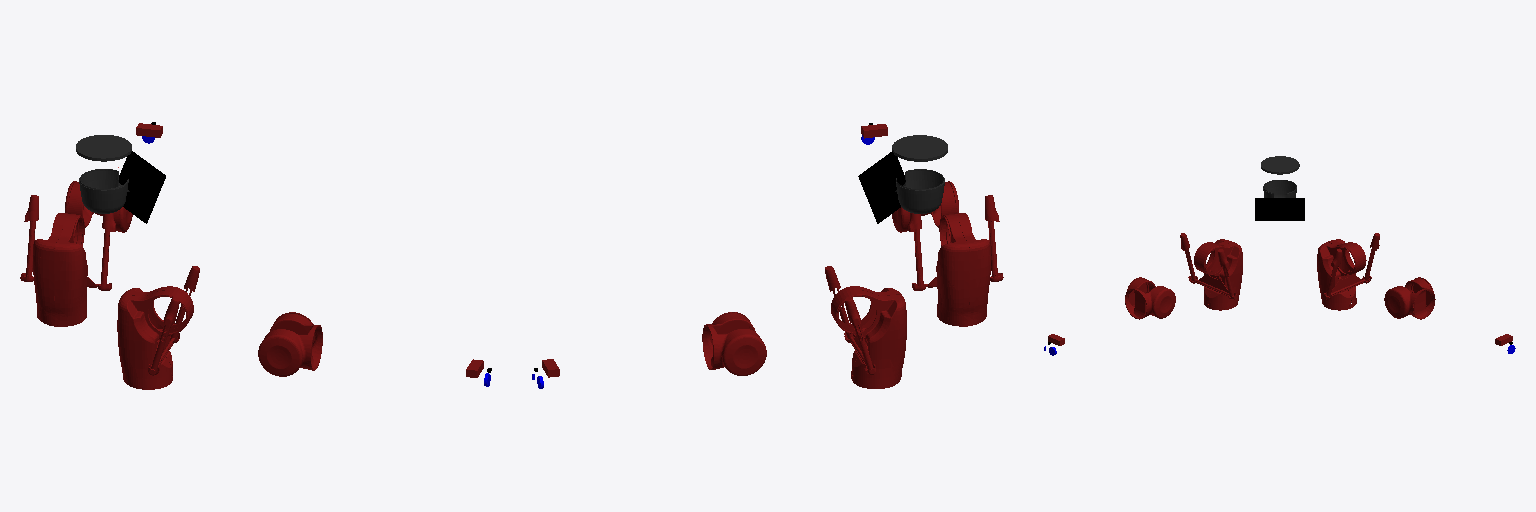
--- Facts derived from the render (not from the file) ---
3 views of the same robot in one strip: view 1: azimuth 30°, elevation 25°; view 2: azimuth 150°, elevation 25°; view 3: azimuth 270°, elevation 25° (orthographic).
Robot: baxter — 49 links, 48 joints (15 revolute, 33 fixed); root link base; default pose: every joint at zero.
Visible links, largest first — view 1: left_upper_shoulder, right_upper_shoulder, right_lower_elbow, display, head, sonar_ring, left_lower_elbow; view 2: right_upper_shoulder, left_upper_shoulder, left_lower_elbow, display, head, sonar_ring, right_lower_elbow; view 3: right_upper_shoulder, left_upper_shoulder, right_lower_elbow, left_lower_elbow, display, sonar_ring, head.
Boxes of the visible links, x1,y1,x2,y2 form: left_upper_shoulder: (20,195,115,326); right_upper_shoulder: (117,266,199,389); right_lower_elbow: (258,312,322,376); display: (119,151,165,223); head: (79,169,129,213); sonar_ring: (76,135,131,161); left_lower_elbow: (65,181,132,232); right_upper_shoulder: (908,195,1003,326); left_upper_shoulder: (825,266,906,388); left_lower_elbow: (702,312,766,375); display: (858,151,905,223); head: (895,169,944,213); sonar_ring: (892,135,947,161); right_lower_elbow: (892,181,958,232); right_upper_shoulder: (1180,233,1242,310); left_upper_shoulder: (1317,233,1379,310); right_lower_elbow: (1125,277,1175,319); left_lower_elbow: (1384,277,1435,319); display: (1255,198,1304,220); sonar_ring: (1261,156,1299,174); head: (1263,180,1296,197).
Size in the robot's own frame: 0.8692 by 2.06 by 0.6706 metres.
5 mesh visuals loaded from 11 distinct referenced files (3 Collada DAE); not drawn: 13 (reference not matched to a file when rendering).

robot.urdf — baxter:
<?xml version="1.0" ?>
<!-- ============================================================================================== -->
<!-- |                                                                                            | -->
<!-- |    baxter.urdf is DEPRECATED. It is included here for backward compatibility.              | -->
<!-- |    Please use baxter.urdf.xacro by running:                                                | -->
<!-- |$ rosrun xacro xacro.py - -inorder `rospack find baxter_description`/urdf/baxter.urdf.xacro | -->
<!-- |                                                                                            | -->
<!-- ============================================================================================== -->
<robot name="baxter">
  <link name="base">
  </link>
  <link name="torso">
    <visual>
      <origin rpy="0 0 0" xyz="0 0 0"/>
      <geometry>
        <mesh filename="package://baxter_description/meshes/torso/base_link.DAE"/>
      </geometry>
    </visual>
    <inertial>
      <origin rpy="0 0 0" xyz="0.000000 0.000000 0.000000"/>
      <mass value="35.336455"/>
      <inertia ixx="1.849155" ixy="-0.000354" ixz="-0.154188" iyy="1.662671" iyz="0.003292" izz="0.802239"/>
    </inertial>
  </link>
  <link name="left_torso_itb">
    <inertial>
      <origin rpy="0 0 0" xyz="0.000000 0.000000 0.000000"/>
      <mass value="0.0001"/>
      <inertia ixx="1e-08" ixy="0" ixz="0" iyy="1e-08" iyz="0" izz="1e-08"/>
    </inertial>
  </link>
  <link name="right_torso_itb">
    <inertial>
      <origin rpy="0 0 0" xyz="0.000000 0.000000 0.000000"/>
      <mass value="0.0001"/>
      <inertia ixx="1e-08" ixy="0" ixz="0" iyy="1e-08" iyz="0" izz="1e-08"/>
    </inertial>
  </link>
  <link name="pedestal">
    <visual>
      <origin rpy="0 0 0" xyz="0 0 0"/>
      <geometry>
        <mesh filename="package://baxter_description/meshes/base/PEDESTAL.DAE"/>
      </geometry>
      <material name="darkgray">
        <color rgba=".2 .2 .2 1"/>
      </material>
    </visual>
    <inertial>
      <origin rpy="0 0 0" xyz="0 0 0"/>
      <mass value="60.86397744"/>
      <inertia ixx="5.0635929" ixy="0.00103417" ixz="0.80199628" iyy="6.08689388" iyz="0.00105311" izz="4.96191932"/>
    </inertial>
  </link>
  <link name="head">
    <visual>
      <origin rpy="0 0 0" xyz="0 0 .00953"/>
      <geometry>
        <mesh filename="package://baxter_description/meshes/head/H0.DAE"/>
      </geometry>
      <material name="darkgray">
        <color rgba=".2 .2 .2 1"/>
      </material>
    </visual>
    <collision>
      <origin rpy="0 0 0" xyz="0.0 0 0.0"/>
      <geometry>
        <sphere radius="0.001"/>
      </geometry>
    </collision>
    <inertial>
      <origin rpy="0 0 0" xyz="0 0 0"/>
      <mass value="0.547767"/>
      <inertia ixx="0.004641" ixy="0.000159" ixz="0.000242" iyy="0.003295" iyz="-0.001324" izz="0.003415"/>
    </inertial>
  </link>
  <link name="sonar_ring">
    <visual>
      <origin rpy="0 0 0" xyz="-.0347 0 .00953"/>
      <geometry>
        <cylinder length="0.01" radius="0.085"/>
      </geometry>
      <material name="darkgray">
        <color rgba=".2 .2 .2 1"/>
      </material>
    </visual>
    <collision>
      <origin rpy="0 0 0" xyz="0.0 0 0.0"/>
      <geometry>
        <sphere radius="0.001"/>
      </geometry>
    </collision>
    <inertial>
      <origin rpy="0 0 0" xyz="0 0 0"/>
      <mass value="0.0001"/>
      <inertia ixx="1e-08" ixy="0" ixz="0" iyy="1e-08" iyz="0" izz="1e-08"/>
    </inertial>
  </link>
  <link name="screen">
    <visual>
      <origin rpy="0 -1.57079632679 0" xyz="0 -.00953 -.0347"/>
      <geometry>
        <mesh filename="package://baxter_description/meshes/head/H1.DAE"/>
      </geometry>
      <material name="darkred">
        <color rgba=".5 .1 .1 1"/>
      </material>
    </visual>
    <collision>
      <origin rpy="0 0 0" xyz="0.0 0 0.0"/>
      <geometry>
        <sphere radius="0.001"/>
      </geometry>
    </collision>
    <inertial>
      <origin rpy="0 0 0" xyz="0 0 0"/>
      <mass value="0.440171"/>
      <inertia ixx="0.004006" ixy="0.000230" ixz="0.000002" iyy="0.002800" iyz="0.000029" izz="0.001509"/>
    </inertial>
  </link>
  <link name="display">
    <visual>
      <origin rpy="0.2617993877991494 0 0" xyz="0 0 0"/>
      <geometry>
        <box size="0.218 0.16 0.001"/>
      </geometry>
      <material name="black">
        <color rgba="0 0 0 1"/>
      </material>
    </visual>
    <inertial>
      <origin rpy="0 0 0" xyz="0 0 0"/>
      <mass value="0.0001"/>
      <inertia ixx="1e-08" ixy="0" ixz="0" iyy="1e-08" iyz="0" izz="1e-08"/>
    </inertial>
  </link>
  <link name="head_camera">
    <inertial>
      <origin rpy="0 0 0" xyz="0 0 0"/>
      <mass value="0.0001"/>
      <inertia ixx="1e-08" ixy="0" ixz="0" iyy="1e-08" iyz="0" izz="1e-08"/>
    </inertial>
  </link>
  <link name="dummyhead1">
    <inertial>
      <origin rpy="0 0 0" xyz="0 0 0"/>
      <mass value="0.0001"/>
      <inertia ixx="1e-08" ixy="0" ixz="0" iyy="1e-08" iyz="0" izz="1e-08"/>
    </inertial>
  </link>
  <link name="collision_head_link_1">
    <visual>
      <origin rpy="0 0 0" xyz="0 0 0"/>
      <geometry>
        <sphere radius="0.001"/>
      </geometry>
      <material name="red">
        <color rgba="0.8 0.3 0.3 0.3"/>
      </material>
    </visual>
    <collision>
      <origin rpy="0 0 0.0" xyz="-0.07 -0.04 0.0"/>
      <geometry>
        <sphere radius="0.22"/>
      </geometry>
    </collision>
    <inertial>
      <origin rpy="0 0 0" xyz="0 0 0"/>
      <mass value="0.0001"/>
      <inertia ixx="1e-08" ixy="0" ixz="0" iyy="1e-08" iyz="0" izz="1e-08"/>
    </inertial>
  </link>
  <link name="collision_head_link_2">
    <visual>
      <origin rpy="0 0 0" xyz="0 0 0"/>
      <geometry>
        <sphere radius="0.001"/>
      </geometry>
      <material name="red">
        <color rgba="0.8 0.3 0.3 0.3"/>
      </material>
    </visual>
    <collision>
      <origin rpy="0 0 0" xyz="-0.07 0.04 0.00"/>
      <geometry>
        <sphere radius="0.22"/>
      </geometry>
    </collision>
    <inertial>
      <origin rpy="0 0 0" xyz="0 0 0"/>
      <mass value="0.0001"/>
      <inertia ixx="1e-08" ixy="0" ixz="0" iyy="1e-08" iyz="0" izz="1e-08"/>
    </inertial>
  </link>
  <joint name="collision_head_1" type="fixed">
    <origin rpy="0 0 0" xyz="0.11 0 0.75"/>
    <parent link="base"/>
    <child link="collision_head_link_1"/>
  </joint>
  <joint name="collision_head_2" type="fixed">
    <origin rpy="0 0 0" xyz="0.11 0 0.75"/>
    <parent link="base"/>
    <child link="collision_head_link_2"/>
  </joint>
  <joint name="dummy" type="fixed">
    <origin rpy="0 0 0" xyz="0 0 0"/>
    <parent link="head"/>
    <child link="dummyhead1"/>
  </joint>
  <joint name="torso_t0" type="fixed">
    <origin rpy="0 0 0" xyz="0 0 0"/>
    <parent link="base"/>
    <child link="torso"/>
    <limit effort="50000" lower="-3.01" upper="3.01" velocity="10000"/>
  </joint>
  <joint name="left_torso_itb_fixed" type="fixed">
    <origin rpy="-1.57079632679 3.1415 0" xyz="-0.08897 0.15593 0.389125"/>
    <parent link="torso"/>
    <child link="left_torso_itb"/>
  </joint>
  <joint name="right_torso_itb_fixed" type="fixed">
    <origin rpy="1.57079632679 0 0" xyz="-0.08897 -0.15593 0.389125"/>
    <parent link="torso"/>
    <child link="right_torso_itb"/>
  </joint>
  <joint name="pedestal_fixed" type="fixed">
    <origin rpy="0 0 0" xyz="0.0 0.0 0.0"/>
    <parent link="torso"/>
    <child link="pedestal"/>
  </joint>
  <joint name="head_pan" type="revolute">
    <origin rpy="0 0 0" xyz="0.06 0 0.686"/>
    <axis xyz="0 0 1"/>
    <parent link="torso"/>
    <child link="head"/>
    <limit effort="50000" lower="-1.57079632679" upper="1.57079632679" velocity="10000"/>
    <dynamics damping="0.7" friction="0.0"/>
  </joint>
  <joint name="head_nod" type="fixed">
    <origin rpy="1.75057 0 1.57079632679" xyz=".1227 0 0"/>
    <parent link="head"/>
    <child link="screen"/>
  </joint>
  <joint name="head_camera" type="fixed">
    <origin rpy="1.75057 0 1.57079632679" xyz="0.12839 0 0.06368"/>
    <parent link="head"/>
    <child link="head_camera"/>
  </joint>
  <joint name="display_joint" type="fixed">
    <origin rpy="0 0 0" xyz="0.0 -0.016 0.0"/>
    <parent link="screen"/>
    <child link="display"/>
  </joint>
  <joint name="sonar_s0" type="fixed">
    <origin rpy="0 0 0" xyz="0.0947 0 .817"/>
    <axis xyz="0 0 1"/>
    <parent link="torso"/>
    <child link="sonar_ring"/>
  </joint>
  <link name="right_arm_mount">
    <!-- all defaults -->
 <gravity>0</gravity>
    <inertial>
      <origin rpy="0 0 0" xyz="0 0 0"/>
      <mass value="0.0001"/>
      <inertia ixx="1e-08" ixy="0" ixz="0" iyy="1e-08" iyz="0" izz="1e-08"/>
    </inertial>
  </link>
  <link name="right_upper_shoulder">
 <gravity>0</gravity>
    <visual>
      <origin rpy="0 0 0" xyz="0 0 0"/>
      <geometry>
        <mesh filename="package://baxter_description/meshes/upper_shoulder/S0.DAE"/>
      </geometry>
      <material name="darkred">
        <color rgba=".5 .1 .1 1"/>
      </material>
    </visual>
    <collision>
      <origin rpy="0 0 0" xyz="0 0 0.1361"/>
      <geometry>
        <cylinder length="0.2722" radius="0.06"/>
      </geometry>
    </collision>
    <inertial>
      <origin rpy="0 0 0" xyz="0.01783 0.00086 0.19127"/>
      <mass value="5.70044"/>
      <inertia ixx="0.04709102262" ixy="0.00012787556" ixz="0.00614870039" iyy="0.03766976455" iyz="0.00078086899" izz="0.03595988478"/>
    </inertial>
  </link>
  <link name="right_lower_shoulder">
 <gravity>0</gravity>
    <visual>
      <origin rpy="0 0 0" xyz="0 0 0"/>
      <geometry>
        <mesh filename="package://baxter_description/meshes/lower_shoulder/S1.DAE"/>
      </geometry>
      <material name="darkred">
        <color rgba=".5 .1 .1 1"/>
      </material>
    </visual>
    <collision>
      <origin rpy="0 0 0" xyz="0 0 0"/>
      <geometry>
        <cylinder length="0.12" radius="0.06"/>
      </geometry>
    </collision>
    <inertial>
      <origin rpy="0 0 0" xyz="0.06845 0.00269 -0.00529"/>
      <mass value="3.22698"/>
      <inertia ixx="0.01175209419" ixy="-0.00030096398" ixz="0.00207675762" iyy="0.0278859752" iyz="-0.00018821993" izz="0.02078749298"/>
    </inertial>
  </link>
  <link name="right_upper_elbow">
 <gravity>0</gravity>
    <visual>
      <origin rpy="0 0 0" xyz="0 0 0"/>
      <geometry>
        <mesh filename="package://baxter_description/meshes/upper_elbow/E0.DAE"/>
      </geometry>
      <material name="darkred">
        <color rgba=".5 .1 .1 1"/>
      </material>
    </visual>
    <collision>
      <origin rpy="0 0 0" xyz="0 0 -0.0535"/>
      <geometry>
        <cylinder length="0.107" radius="0.06"/>
      </geometry>
    </collision>
    <inertial>
      <origin rpy="0 0 0" xyz="-0.00276 0.00132 0.18086"/>
      <mass value="4.31272"/>
      <inertia ixx="0.02661733557" ixy="0.00029270634" ixz="0.00392189887" iyy="0.02844355207" iyz="0.0010838933" izz="0.01248008322"/>
    </inertial>
  </link>
  <link name="right_upper_elbow_visual">
 <gravity>0</gravity>
    <collision>
      <origin rpy="0 0 0" xyz="0 0 0.1365"/>
      <geometry>
        <cylinder length="0.273" radius="0.06"/>
      </geometry>
    </collision>
    <inertial>
      <origin rpy="0 0 0" xyz="0 0 0"/>
      <mass value="0.0001"/>
      <inertia ixx="1e-08" ixy="0" ixz="0" iyy="1e-08" iyz="0" izz="1e-08"/>
    </inertial>
  </link>
  <link name="right_lower_elbow">
 <gravity>0</gravity>
    <visual>
      <origin rpy="0 0 0" xyz="0 0 0"/>
      <geometry>
        <mesh filename="package://baxter_description/meshes/lower_elbow/E1.DAE"/>
      </geometry>
      <material name="darkred">
        <color rgba=".5 .1 .1 1"/>
      </material>
    </visual>
    <collision>
      <origin rpy="0 0 0" xyz="0.0 0.0 0.0"/>
      <geometry>
        <cylinder length="0.10" radius="0.06"/>
      </geometry>
    </collision>
    <inertial>
      <origin rpy="0 0 0" xyz="0.02611 0.00159 -0.01117"/>
      <mass value="2.07206"/>
      <inertia ixx="0.00711582686" ixy="0.00036036173" ixz="0.0007459496" iyy="0.01318227876" iyz="-0.00019663418" izz="0.00926852064"/>
    </inertial>
  </link>
  <link name="right_upper_forearm">
 <gravity>0</gravity>
    <visual>
      <origin rpy="0 0 0" xyz="0 0 0"/>
      <geometry>
        <mesh filename="package://baxter_description/meshes/upper_forearm/W0.DAE"/>
      </geometry>
      <material name="darkred">
        <color rgba=".5 .1 .1 1"/>
      </material>
    </visual>
    <collision>
      <origin rpy="0 0 0" xyz="0 0 -0.044"/>
      <geometry>
        <cylinder length="0.088" radius="0.06"/>
      </geometry>
    </collision>
    <inertial>
      <origin rpy="0 0 0" xyz="-0.00168 0.0046 0.13952"/>
      <mass value="2.24665"/>
      <inertia ixx="0.01667742825" ixy="0.00018403705" ixz="0.00018657629" iyy="0.01675457264" iyz="-0.00064732352" izz="0.0037463115"/>
    </inertial>
  </link>
  <link name="right_upper_forearm_visual">
 <gravity>0</gravity>
    <collision>
      <origin rpy="0 0 0" xyz="0 0 0.136"/>
      <geometry>
        <cylinder length="0.272" radius="0.06"/>
      </geometry>
    </collision>
    <inertial>
      <origin rpy="0 0 0" xyz="0 0 0"/>
      <mass value="0.0001"/>
      <inertia ixx="1e-08" ixy="0" ixz="0" iyy="1e-08" iyz="0" izz="1e-08"/>
    </inertial>
  </link>
  <link name="right_arm_itb">
 <gravity>0</gravity>
    <inertial>
      <origin rpy="0 0 0" xyz="0.000000 0.000000 0.000000"/>
      <mass value="0.0001"/>
      <inertia ixx="1e-08" ixy="0" ixz="0" iyy="1e-08" iyz="0" izz="1e-08"/>
    </inertial>
  </link>
  <link name="right_lower_forearm">
 <gravity>0</gravity>
    <visual>
      <origin rpy="0 0 0" xyz="0 0 0"/>
      <geometry>
        <mesh filename="package://baxter_description/meshes/lower_forearm/W1.DAE"/>
      </geometry>
      <material name="darkred">
        <color rgba=".5 .1 .1 1"/>
      </material>
    </visual>
    <collision>
      <origin rpy="0 0 0" xyz="0 0 0"/>
      <geometry>
        <cylinder length="0.10" radius="0.06"/>
      </geometry>
    </collision>
    <inertial>
      <origin rpy="0 0 0" xyz="0.06041 0.00697 0.006"/>
      <mass value="1.60979"/>
      <inertia ixx="0.00387607152" ixy="-0.00044384784" ixz="-0.00021115038" iyy="0.00700537914" iyz="0.00015348067" izz="0.0055275524"/>
    </inertial>
  </link>
  <link name="right_wrist">
 <gravity>0</gravity>
    <visual>
      <origin rpy="0 0 0" xyz="0 0 0"/>
      <geometry>
        <mesh filename="package://baxter_description/meshes/wrist/W2.DAE"/>
      </geometry>
      <material name="lightgrey">
        <color rgba=".1 .1 .1 1"/>
      </material>
    </visual>
    <collision>
      <origin rpy="0 0 0" xyz="0 0 0"/>
      <geometry>
        <cylinder length="0.165" radius="0.06"/>
      </geometry>
    </collision>
    <inertial>
      <origin rpy="0 0 0" xyz="0.00198 0.00125 0.01855"/>
      <mass value="0.35093"/>
      <inertia ixx="0.00025289155" ixy="0.00000575311" ixz="-0.00000159345" iyy="0.0002688601" iyz="-0.00000519818" izz="0.0003074118"/>
    </inertial>
  </link>
  <link name="right_hand">
 <gravity>0</gravity>
    <collision>
      <origin rpy="0 0 0" xyz="0 0 -0.0232"/>
      <geometry>
        <cylinder length="0.0464" radius="0.04"/>
      </geometry>
    </collision>
    <inertial>
      <origin rpy="0 0 0" xyz="0.01093 0.00042 -0.01532"/>
      <mass value="0.19125"/>
      <inertia ixx="0.00017588" ixy="0.00000147073" ixz="0.0000243633" iyy="0.00021166377" iyz="0.00000172689" izz="0.00023745397"/>
    </inertial>
  </link>
  <link name="right_hand_camera">
 <gravity>0</gravity>
    <visual>
      <origin rpy="0 0 0" xyz="0 0 0"/>
      <geometry>
        <cylinder length="0.01" radius="0.02"/>
      </geometry>
      <material name="blue">
        <color rgba="0 0 1 0.8"/>
      </material>
    </visual>
    <inertial>
      <origin rpy="0 0 0" xyz="0 0 0"/>
      <mass value="0.0001"/>
      <inertia ixx="1e-08" ixy="0" ixz="0" iyy="1e-08" iyz="0" izz="1e-08"/>
    </inertial>
  </link>
  <link name="right_hand_camera_axis">
 <gravity>0</gravity>
    <inertial>
      <origin rpy="0 0 0" xyz="0 0 0"/>
      <mass value="0.0001"/>
      <inertia ixx="1e-08" ixy="0" ixz="0" iyy="1e-08" iyz="0" izz="1e-08"/>
    </inertial>
  </link>
  <link name="right_hand_range">
 <gravity>0</gravity>
    <visual>
      <origin rpy="0 0 0" xyz="0 0 0"/>
      <geometry>
        <box size="0.005 .02 .005"/>
      </geometry>
      <material name="blue">
        <color rgba="0 0 1 0.8"/>
      </material>
    </visual>
    <inertial>
      <origin rpy="0 0 0" xyz="0 0 0"/>
      <mass value="0.0001"/>
      <inertia ixx="1e-08" ixy="0" ixz="0" iyy="1e-08" iyz="0" izz="1e-08"/>
    </inertial>
  </link>
  <link name="right_hand_accelerometer">
 <gravity>0</gravity>
    <visual>
      <origin rpy="0 0 0" xyz="0 0 0"/>
      <geometry>
        <box size="0.01 0.01 0.01"/>
      </geometry>
      <material name="black">
        <color rgba="0 0 0 1"/>
      </material>
    </visual>
    <inertial>
      <origin rpy="0 0 0" xyz="0.000000 0.000000 0.000000"/>
      <mass value="0.0001"/>
      <inertia ixx="1e-08" ixy="0" ixz="0" iyy="1e-08" iyz="0" izz="1e-08"/>
    </inertial>
  </link>
  <link name="right_gripper_base">
 <gravity>0</gravity>
    <visual>
      <origin rpy="0 0 0" xyz="0 0 -0.02"/>
      <geometry>
        <box size="0.025 0.075 0.035"/>
      </geometry>
      <material name="darkred">
        <color rgba=".5 .1 .1 1"/>
      </material>
    </visual>
    <inertial>
      <origin rpy="0 0 0" xyz="0.000000 0.000000 0.000000"/>
      <mass value="0.0001"/>
      <inertia ixx="1e-08" ixy="0" ixz="0" iyy="1e-08" iyz="0" izz="1e-08"/>
    </inertial>
  </link>
  <link name="right_gripper">
 <gravity>0</gravity>
    <visual>
      <origin rpy="0 0 0" xyz="0 0 0"/>
      <geometry>
        <box size="0.01 0.01 0.01"/>
      </geometry>
      <material name="black">
        <color rgba="0 0 0 1"/>
      </material>
    </visual>
    <inertial>
      <origin rpy="0 0 0" xyz="0.000000 0.000000 0.000000"/>
      <mass value="0.0001"/>
      <inertia ixx="1e-08" ixy="0" ixz="0" iyy="1e-08" iyz="0" izz="1e-08"/>
    </inertial>
  </link>
  <joint name="right_torso_arm_mount" type="fixed">
    <origin rpy="0 0 -0.7854" xyz="0.024645 -0.219645 0.118588"/>
    <parent link="torso"/>
    <child link="right_arm_mount"/>
  </joint>
  <joint name="right_s0" type="revolute">
    <origin rpy="0 0 0" xyz="0.055695 0 0.011038"/>
    <axis xyz="0 0 1"/>
    <parent link="right_arm_mount"/>
    <child link="right_upper_shoulder"/>
    <limit effort="50.0" lower="-1.70167993878" upper="1.70167993878" velocity="1.5"/>
    <dynamics damping="0.7" friction="0.0"/>
  </joint>
  <joint name="right_s1" type="revolute">
    <origin rpy="-1.57079632679 0 0" xyz="0.069 0 0.27035"/>
    <axis xyz="0 0 1"/>
    <parent link="right_upper_shoulder"/>
    <child link="right_lower_shoulder"/>
    <limit effort="100.0" lower="-2.147" upper="1.047" velocity="1.5"/>
    <dynamics damping="0.7" friction="0.0"/>
  </joint>
  <joint name="right_e0" type="revolute">
    <origin rpy="1.57079632679 0 1.57079632679" xyz="0.102 0 0"/>
    <axis xyz="0 0 1"/>
    <parent link="right_lower_shoulder"/>
    <child link="right_upper_elbow"/>
    <limit effort="50.0" lower="-3.05417993878" upper="3.05417993878" velocity="1.5"/>
    <dynamics damping="0.7" friction="0.0"/>
  </joint>
  <joint name="right_e0_fixed" type="fixed">
    <origin rpy="1.57079632679 0 1.57079632679" xyz="0.107 0 0"/>
    <axis xyz="0 0 1"/>
    <parent link="right_lower_shoulder"/>
    <child link="right_upper_elbow_visual"/>
  </joint>
  <joint name="right_e1" type="revolute">
    <origin rpy="-1.57079632679 -1.57079632679 0" xyz="0.069 0 0.26242"/>
    <axis xyz="0 0 1"/>
    <parent link="right_upper_elbow"/>
    <child link="right_lower_elbow"/>
    <limit effort="50.0" lower="-0.05" upper="2.618" velocity="1.5"/>
    <dynamics damping="0.7" friction="0.0"/>
  </joint>
  <joint name="right_w0" type="revolute">
    <origin rpy="1.57079632679 0 1.57079632679" xyz="0.10359 0 0"/>
    <axis xyz="0 0 1"/>
    <parent link="right_lower_elbow"/>
    <child link="right_upper_forearm"/>
    <limit effort="15.0" lower="-3.059" upper="3.059" velocity="4.0"/>
    <dynamics damping="0.7" friction="0.0"/>
  </joint>
  <joint name="right_w0_fixed" type="fixed">
    <origin rpy="1.57079632679 0 1.57079632679" xyz="0.088 0 0"/>
    <axis xyz="0 0 1"/>
    <parent link="right_lower_elbow"/>
    <child link="right_upper_forearm_visual"/>
  </joint>
  <joint name="right_w0_to_itb_fixed" type="fixed">
    <origin rpy="-1.57079632679 0 1.57079632679" xyz="-0.0565 0 0.12"/>
    <axis xyz="0 0 1"/>
    <parent link="right_upper_forearm"/>
    <child link="right_arm_itb"/>
  </joint>
  <joint name="right_w1" type="revolute">
    <origin rpy="-1.57079632679 -1.57079632679 0" xyz="0.01 0 0.2707"/>
    <axis xyz="0 0 1"/>
    <parent link="right_upper_forearm"/>
    <child link="right_lower_forearm"/>
    <limit effort="15.0" lower="-1.57079632679" upper="2.094" velocity="4.0"/>
    <dynamics damping="0.7" friction="0.0"/>
  </joint>
  <joint name="right_w2" type="revolute">
    <origin rpy="1.57079632679 0 1.57079632679" xyz="0.115975 0 0"/>
    <axis xyz="0 0 1"/>
    <parent link="right_lower_forearm"/>
    <child link="right_wrist"/>
    <limit effort="15.0" lower="-3.059" upper="3.059" velocity="4.0"/>
    <dynamics damping="0.7" friction="0.0"/>
  </joint>
  <joint name="right_hand" type="fixed">
    <origin rpy="0 0 0" xyz="0 0 0.11355"/>
    <axis xyz="0 0 1"/>
    <parent link="right_wrist"/>
    <child link="right_hand"/>
    <dynamics damping="0.7" friction="0.0"/>
  </joint>
  <joint name="right_hand_camera" type="fixed">
    <origin rpy="0 0 -1.57079633" xyz="0.03825 0.012 0.015355"/>
    <parent link="right_hand"/>
    <child link="right_hand_camera"/>
  </joint>
  <joint name="right_hand_camera_axis" type="fixed">
    <origin rpy="0 0 0" xyz="0.03825 0.012 0.015355"/>
    <parent link="right_hand"/>
    <child link="right_hand_camera_axis"/>
  </joint>
  <joint name="right_hand_range" type="fixed">
    <origin rpy="0 -1.57079632679 -1.57079632679" xyz="0.032 -0.020245 0.0288"/>
    <parent link="right_hand"/>
    <child link="right_hand_range"/>
  </joint>
  <joint name="right_hand_accelerometer" type="fixed">
    <origin rpy="0 0 0" xyz="0.00198 0.000133 -0.0146"/>
    <parent link="right_hand"/>
    <child link="right_hand_accelerometer"/>
  </joint>
  <joint name="right_gripper_base" type="fixed">
    <origin rpy="0 0 0" xyz="0 0 0"/>
    <parent link="right_hand"/>
    <child link="right_gripper_base"/>
  </joint>
  <joint name="right_endpoint" type="fixed">
    <origin rpy="0 0 0" xyz="0.0 0 0.025"/>
    <parent link="right_gripper_base"/>
    <child link="right_gripper"/>
  </joint>
  <link name="left_arm_mount">
    <!-- all defaults -->
 <gravity>0</gravity>
    <inertial>
      <origin rpy="0 0 0" xyz="0 0 0"/>
      <mass value="0.0001"/>
      <inertia ixx="1e-08" ixy="0" ixz="0" iyy="1e-08" iyz="0" izz="1e-08"/>
    </inertial>
  </link>
  <link name="left_upper_shoulder">
 <gravity>0</gravity>
    <visual>
      <origin rpy="0 0 0" xyz="0 0 0"/>
      <geometry>
        <mesh filename="package://baxter_description/meshes/upper_shoulder/S0.DAE"/>
      </geometry>
      <material name="darkred">
        <color rgba=".5 .1 .1 1"/>
      </material>
    </visual>
    <collision>
      <origin rpy="0 0 0" xyz="0 0 0.1361"/>
      <geometry>
        <cylinder length="0.2722" radius="0.06"/>
      </geometry>
    </collision>
    <inertial>
      <origin rpy="0 0 0" xyz="0.01783 0.00086 0.19127"/>
      <mass value="5.70044"/>
      <inertia ixx="0.04709102262" ixy="0.00012787556" ixz="0.00614870039" iyy="0.03766976455" iyz="0.00078086899" izz="0.03595988478"/>
    </inertial>
  </link>
  <link name="left_lower_shoulder">
 <gravity>0</gravity>
    <visual>
      <origin rpy="0 0 0" xyz="0 0 0"/>
      <geometry>
        <mesh filename="package://baxter_description/meshes/lower_shoulder/S1.DAE"/>
      </geometry>
      <material name="darkred">
        <color rgba=".5 .1 .1 1"/>
      </material>
    </visual>
    <collision>
      <origin rpy="0 0 0" xyz="0 0 0"/>
      <geometry>
        <cylinder length="0.12" radius="0.06"/>
      </geometry>
    </collision>
    <inertial>
      <origin rpy="0 0 0" xyz="0.06845 0.00269 -0.00529"/>
      <mass value="3.22698"/>
      <inertia ixx="0.01175209419" ixy="-0.00030096398" ixz="0.00207675762" iyy="0.0278859752" iyz="-0.00018821993" izz="0.02078749298"/>
    </inertial>
  </link>
  <link name="left_upper_elbow">
 <gravity>0</gravity>
    <visual>
      <origin rpy="0 0 0" xyz="0 0 0"/>
      <geometry>
        <mesh filename="package://baxter_description/meshes/upper_elbow/E0.DAE"/>
      </geometry>
      <material name="darkred">
        <color rgba=".5 .1 .1 1"/>
      </material>
    </visual>
    <collision>
      <origin rpy="0 0 0" xyz="0 0 -0.0535"/>
      <geometry>
        <cylinder length="0.107" radius="0.06"/>
      </geometry>
    </collision>
    <inertial>
      <origin rpy="0 0 0" xyz="-0.00276 0.00132 0.18086"/>
      <mass value="4.31272"/>
      <inertia ixx="0.02661733557" ixy="0.00029270634" ixz="0.00392189887" iyy="0.02844355207" iyz="0.0010838933" izz="0.01248008322"/>
    </inertial>
  </link>
  <link name="left_upper_elbow_visual">
 <gravity>0</gravity>
    <collision>
      <origin rpy="0 0 0" xyz="0 0 0.1365"/>
      <geometry>
        <cylinder length="0.273" radius="0.06"/>
      </geometry>
    </collision>
    <inertial>
      <origin rpy="0 0 0" xyz="0 0 0"/>
      <mass value="0.0001"/>
      <inertia ixx="1e-08" ixy="0" ixz="0" iyy="1e-08" iyz="0" izz="1e-08"/>
    </inertial>
  </link>
  <link name="left_lower_elbow">
 <gravity>0</gravity>
    <visual>
      <origin rpy="0 0 0" xyz="0 0 0"/>
      <geometry>
        <mesh filename="package://baxter_description/meshes/lower_elbow/E1.DAE"/>
      </geometry>
      <material name="darkred">
        <color rgba=".5 .1 .1 1"/>
      </material>
    </visual>
    <collision>
      <origin rpy="0 0 0" xyz="0.0 0.0 0.0"/>
      <geometry>
        <cylinder length="0.10" radius="0.06"/>
      </geometry>
    </collision>
    <inertial>
      <origin rpy="0 0 0" xyz="0.02611 0.00159 -0.01117"/>
      <mass value="2.07206"/>
      <inertia ixx="0.00711582686" ixy="0.00036036173" ixz="0.0007459496" iyy="0.01318227876" iyz="-0.00019663418" izz="0.00926852064"/>
    </inertial>
  </link>
  <link name="left_upper_forearm">
 <gravity>0</gravity>
    <visual>
      <origin rpy="0 0 0" xyz="0 0 0"/>
      <geometry>
        <mesh filename="package://baxter_description/meshes/upper_forearm/W0.DAE"/>
      </geometry>
      <material name="darkred">
        <color rgba=".5 .1 .1 1"/>
      </material>
    </visual>
    <collision>
      <origin rpy="0 0 0" xyz="0 0 -0.044"/>
      <geometry>
        <cylinder length="0.088" radius="0.06"/>
      </geometry>
    </collision>
    <inertial>
      <origin rpy="0 0 0" xyz="-0.00168 0.0046 0.13952"/>
      <mass value="2.24665"/>
      <inertia ixx="0.01667742825" ixy="0.00018403705" ixz="0.00018657629" iyy="0.01675457264" iyz="-0.00064732352" izz="0.0037463115"/>
    </inertial>
  </link>
  <link name="left_upper_forearm_visual">
 <gravity>0</gravity>
    <collision>
      <origin rpy="0 0 0" xyz="0 0 0.136"/>
      <geometry>
        <cylinder length="0.272" radius="0.06"/>
      </geometry>
    </collision>
    <inertial>
      <origin rpy="0 0 0" xyz="0 0 0"/>
      <mass value="0.0001"/>
      <inertia ixx="1e-08" ixy="0" ixz="0" iyy="1e-08" iyz="0" izz="1e-08"/>
    </inertial>
  </link>
  <link name="left_arm_itb">
 <gravity>0</gravity>
    <inertial>
      <origin rpy="0 0 0" xyz="0.000000 0.000000 0.000000"/>
      <mass value="0.0001"/>
      <inertia ixx="1e-08" ixy="0" ixz="0" iyy="1e-08" iyz="0" izz="1e-08"/>
    </inertial>
  </link>
  <link name="left_lower_forearm">
 <gravity>0</gravity>
    <visual>
      <origin rpy="0 0 0" xyz="0 0 0"/>
      <geometry>
        <mesh filename="package://baxter_description/meshes/lower_forearm/W1.DAE"/>
      </geometry>
      <material name="darkred">
        <color rgba=".5 .1 .1 1"/>
      </material>
    </visual>
    <collision>
      <origin rpy="0 0 0" xyz="0 0 0"/>
      <geometry>
        <cylinder length="0.10" radius="0.06"/>
      </geometry>
    </collision>
    <inertial>
      <origin rpy="0 0 0" xyz="0.06041 0.00697 0.006"/>
      <mass value="1.60979"/>
      <inertia ixx="0.00387607152" ixy="-0.00044384784" ixz="-0.00021115038" iyy="0.00700537914" iyz="0.00015348067" izz="0.0055275524"/>
    </inertial>
  </link>
  <link name="left_wrist">
 <gravity>0</gravity>
    <visual>
      <origin rpy="0 0 0" xyz="0 0 0"/>
      <geometry>
        <mesh filename="package://baxter_description/meshes/wrist/W2.DAE"/>
      </geometry>
      <material name="lightgrey">
        <color rgba=".1 .1 .1 1"/>
      </material>
    </visual>
    <collision>
      <origin rpy="0 0 0" xyz="0 0 0"/>
      <geometry>
        <cylinder length="0.165" radius="0.06"/>
      </geometry>
    </collision>
    <inertial>
      <origin rpy="0 0 0" xyz="0.00198 0.00125 0.01855"/>
      <mass value="0.35093"/>
      <inertia ixx="0.00025289155" ixy="0.00000575311" ixz="-0.00000159345" iyy="0.0002688601" iyz="-0.00000519818" izz="0.0003074118"/>
    </inertial>
  </link>
  <link name="left_hand">
 <gravity>0</gravity>
    <collision>
      <origin rpy="0 0 0" xyz="0 0 -0.0232"/>
      <geometry>
        <cylinder length="0.0464" radius="0.04"/>
      </geometry>
    </collision>
    <inertial>
      <origin rpy="0 0 0" xyz="0.01093 0.00042 -0.01532"/>
      <mass value="0.19125"/>
      <inertia ixx="0.00017588" ixy="0.00000147073" ixz="0.0000243633" iyy="0.00021166377" iyz="0.00000172689" izz="0.00023745397"/>
    </inertial>
  </link>
  <link name="left_hand_camera">
 <gravity>0</gravity>
    <visual>
      <origin rpy="0 0 0" xyz="0 0 0"/>
      <geometry>
        <cylinder length="0.01" radius="0.02"/>
      </geometry>
      <material name="blue">
        <color rgba="0 0 1 0.8"/>
      </material>
    </visual>
    <inertial>
      <origin rpy="0 0 0" xyz="0 0 0"/>
      <mass value="0.0001"/>
      <inertia ixx="1e-08" ixy="0" ixz="0" iyy="1e-08" iyz="0" izz="1e-08"/>
    </inertial>
  </link>
  <link name="left_hand_camera_axis">
 <gravity>0</gravity>
    <inertial>
      <origin rpy="0 0 0" xyz="0 0 0"/>
      <mass value="0.0001"/>
      <inertia ixx="1e-08" ixy="0" ixz="0" iyy="1e-08" iyz="0" izz="1e-08"/>
    </inertial>
  </link>
  <link name="left_hand_range">
 <gravity>0</gravity>
    <visual>
      <origin rpy="0 0 0" xyz="0 0 0"/>
      <geometry>
        <box size="0.005 .02 .005"/>
      </geometry>
      <material name="blue">
        <color rgba="0 0 1 0.8"/>
      </material>
    </visual>
    <inertial>
      <origin rpy="0 0 0" xyz="0 0 0"/>
      <mass value="0.0001"/>
      <inertia ixx="1e-08" ixy="0" ixz="0" iyy="1e-08" iyz="0" izz="1e-08"/>
    </inertial>
  </link>
  <link name="left_hand_accelerometer">
 <gravity>0</gravity>
    <visual>
      <origin rpy="0 0 0" xyz="0 0 0"/>
      <geometry>
        <box size="0.01 0.01 0.01"/>
      </geometry>
      <material name="black">
        <color rgba="0 0 0 1"/>
      </material>
    </visual>
    <inertial>
      <origin rpy="0 0 0" xyz="0.000000 0.000000 0.000000"/>
      <mass value="0.0001"/>
      <inertia ixx="1e-08" ixy="0" ixz="0" iyy="1e-08" iyz="0" izz="1e-08"/>
    </inertial>
  </link>
  <link name="left_gripper_base">
 <gravity>0</gravity>
    <visual>
      <origin rpy="0 0 0" xyz="0 0 -0.02"/>
      <geometry>
        <box size="0.025 0.075 0.035"/>
      </geometry>
      <material name="darkred">
        <color rgba=".5 .1 .1 1"/>
      </material>
    </visual>
    <inertial>
      <origin rpy="0 0 0" xyz="0.000000 0.000000 0.000000"/>
      <mass value="0.0001"/>
      <inertia ixx="1e-08" ixy="0" ixz="0" iyy="1e-08" iyz="0" izz="1e-08"/>
    </inertial>
  </link>
  <link name="left_gripper">
 <gravity>0</gravity>
    <visual>
      <origin rpy="0 0 0" xyz="0 0 0"/>
      <geometry>
        <box size="0.01 0.01 0.01"/>
      </geometry>
      <material name="black">
        <color rgba="0 0 0 1"/>
      </material>
    </visual>
    <inertial>
      <origin rpy="0 0 0" xyz="0.000000 0.000000 0.000000"/>
      <mass value="0.0001"/>
      <inertia ixx="1e-08" ixy="0" ixz="0" iyy="1e-08" iyz="0" izz="1e-08"/>
    </inertial>
  </link>
  <joint name="left_torso_arm_mount" type="fixed">
    <origin rpy="0 0 0.7854" xyz="0.024645 0.219645 0.118588"/>
    <parent link="torso"/>
    <child link="left_arm_mount"/>
  </joint>
  <joint name="left_s0" type="revolute">
    <origin rpy="0 0 0" xyz="0.055695 0 0.011038"/>
    <axis xyz="0 0 1"/>
    <parent link="left_arm_mount"/>
    <child link="left_upper_shoulder"/>
    <limit effort="50.0" lower="-1.70167993878" upper="1.70167993878" velocity="1.5"/>
    <dynamics damping="0.7" friction="0.0"/>
  </joint>
  <joint name="left_s1" type="revolute">
    <origin rpy="-1.57079632679 0 0" xyz="0.069 0 0.27035"/>
    <axis xyz="0 0 1"/>
    <parent link="left_upper_shoulder"/>
    <child link="left_lower_shoulder"/>
    <limit effort="100.0" lower="-2.147" upper="1.047" velocity="1.5"/>
    <dynamics damping="0.7" friction="0.0"/>
  </joint>
  <joint name="left_e0" type="revolute">
    <origin rpy="1.57079632679 0 1.57079632679" xyz="0.102 0 0"/>
    <axis xyz="0 0 1"/>
    <parent link="left_lower_shoulder"/>
    <child link="left_upper_elbow"/>
    <limit effort="50.0" lower="-3.05417993878" upper="3.05417993878" velocity="1.5"/>
    <dynamics damping="0.7" friction="0.0"/>
  </joint>
  <joint name="left_e0_fixed" type="fixed">
    <origin rpy="1.57079632679 0 1.57079632679" xyz="0.107 0 0"/>
    <axis xyz="0 0 1"/>
    <parent link="left_lower_shoulder"/>
    <child link="left_upper_elbow_visual"/>
  </joint>
  <joint name="left_e1" type="revolute">
    <origin rpy="-1.57079632679 -1.57079632679 0" xyz="0.069 0 0.26242"/>
    <axis xyz="0 0 1"/>
    <parent link="left_upper_elbow"/>
    <child link="left_lower_elbow"/>
    <limit effort="50.0" lower="-0.05" upper="2.618" velocity="1.5"/>
    <dynamics damping="0.7" friction="0.0"/>
  </joint>
  <joint name="left_w0" type="revolute">
    <origin rpy="1.57079632679 0 1.57079632679" xyz="0.10359 0 0"/>
    <axis xyz="0 0 1"/>
    <parent link="left_lower_elbow"/>
    <child link="left_upper_forearm"/>
    <limit effort="15.0" lower="-3.059" upper="3.059" velocity="4.0"/>
    <dynamics damping="0.7" friction="0.0"/>
  </joint>
  <joint name="left_w0_fixed" type="fixed">
    <origin rpy="1.57079632679 0 1.57079632679" xyz="0.088 0 0"/>
    <axis xyz="0 0 1"/>
    <parent link="left_lower_elbow"/>
    <child link="left_upper_forearm_visual"/>
  </joint>
  <joint name="left_w0_to_itb_fixed" type="fixed">
    <origin rpy="-1.57079632679 0 1.57079632679" xyz="-0.0565 0 0.12"/>
    <axis xyz="0 0 1"/>
    <parent link="left_upper_forearm"/>
    <child link="left_arm_itb"/>
  </joint>
  <joint name="left_w1" type="revolute">
    <origin rpy="-1.57079632679 -1.57079632679 0" xyz="0.01 0 0.2707"/>
    <axis xyz="0 0 1"/>
    <parent link="left_upper_forearm"/>
    <child link="left_lower_forearm"/>
    <limit effort="15.0" lower="-1.57079632679" upper="2.094" velocity="4.0"/>
    <dynamics damping="0.7" friction="0.0"/>
  </joint>
  <joint name="left_w2" type="revolute">
    <origin rpy="1.57079632679 0 1.57079632679" xyz="0.115975 0 0"/>
    <axis xyz="0 0 1"/>
    <parent link="left_lower_forearm"/>
    <child link="left_wrist"/>
    <limit effort="15.0" lower="-3.059" upper="3.059" velocity="4.0"/>
    <dynamics damping="0.7" friction="0.0"/>
  </joint>
  <joint name="left_hand" type="fixed">
    <origin rpy="0 0 0" xyz="0 0 0.11355"/>
    <axis xyz="0 0 1"/>
    <parent link="left_wrist"/>
    <child link="left_hand"/>
    <dynamics damping="0.7" friction="0.0"/>
  </joint>
  <joint name="left_hand_camera" type="fixed">
    <origin rpy="0 0 -1.57079633" xyz="0.03825 0.012 0.015355"/>
    <parent link="left_hand"/>
    <child link="left_hand_camera"/>
  </joint>
  <joint name="left_hand_camera_axis" type="fixed">
    <origin rpy="0 0 0" xyz="0.03825 0.012 0.015355"/>
    <parent link="left_hand"/>
    <child link="left_hand_camera_axis"/>
  </joint>
  <joint name="left_hand_range" type="fixed">
    <origin rpy="0 -1.57079632679 -1.57079632679" xyz="0.032 -0.020245 0.0288"/>
    <parent link="left_hand"/>
    <child link="left_hand_range"/>
  </joint>
  <joint name="left_hand_accelerometer" type="fixed">
    <origin rpy="0 0 0" xyz="0.00198 0.000133 -0.0146"/>
    <parent link="left_hand"/>
    <child link="left_hand_accelerometer"/>
  </joint>
  <joint name="left_gripper_base" type="fixed">
    <origin rpy="0 0 0" xyz="0 0 0"/>
    <parent link="left_hand"/>
    <child link="left_gripper_base"/>
  </joint>
  <joint name="left_endpoint" type="fixed">
    <origin rpy="0 0 0" xyz="0.0 0 0.025"/>
    <parent link="left_gripper_base"/>
    <child link="left_gripper"/>
  </joint>

  <!-- Transmissions -->

  <!-- Right Arm -->
  <transmission name="right_tran1">
    <type>transmission_interface/SimpleTransmission</type>
    <joint name="right_s0">
      <hardwareInterface>EffortJointInterface</hardwareInterface>
    </joint>
    <actuator name="right_motor1">
      <hardwareInterface>EffortJointInterface</hardwareInterface>
      <mechanicalReduction>1</mechanicalReduction>
    </actuator>
  </transmission>
  <transmission name="right_tran2">
    <type>transmission_interface/SimpleTransmission</type>
    <joint name="right_s1">
      <hardwareInterface>EffortJointInterface</hardwareInterface>
    </joint>
    <actuator name="right_motor2">
      <hardwareInterface>EffortJointInterface</hardwareInterface>
      <mechanicalReduction>1</mechanicalReduction>
    </actuator>
  </transmission>
  <transmission name="right_tran3">
    <type>transmission_interface/SimpleTransmission</type>
    <joint name="right_e0">
      <hardwareInterface>EffortJointInterface</hardwareInterface>
    </joint>
    <actuator name="right_motor3">
      <hardwareInterface>EffortJointInterface</hardwareInterface>
      <mechanicalReduction>1</mechanicalReduction>
    </actuator>
  </transmission>
  <transmission name="right_tran4">
    <type>transmission_interface/SimpleTransmission</type>
    <joint name="right_e1">
      <hardwareInterface>EffortJointInterface</hardwareInterface>
    </joint>
    <actuator name="right_motor4">
      <hardwareInterface>EffortJointInterface</hardwareInterface>
      <mechanicalReduction>1</mechanicalReduction>
    </actuator>
  </transmission>
  <transmission name="right_tran5">
    <type>transmission_interface/SimpleTransmission</type>
    <joint name="right_w0">
      <hardwareInterface>EffortJointInterface</hardwareInterface>
    </joint>
    <actuator name="right_motor5">
      <hardwareInterface>EffortJointInterface</hardwareInterface>
      <mechanicalReduction>1</mechanicalReduction>
    </actuator>
  </transmission>
  <transmission name="right_tran6">
    <type>transmission_interface/SimpleTransmission</type>
    <joint name="right_w1">
      <hardwareInterface>EffortJointInterface</hardwareInterface>
    </joint>
    <actuator name="right_motor6">
      <hardwareInterface>EffortJointInterface</hardwareInterface>
      <mechanicalReduction>1</mechanicalReduction>
    </actuator>
  </transmission>
  <transmission name="right_tran7">
    <type>transmission_interface/SimpleTransmission</type>
    <joint name="right_w2">
      <hardwareInterface>EffortJointInterface</hardwareInterface>
    </joint>
    <actuator name="right_motor7">
      <hardwareInterface>EffortJointInterface</hardwareInterface>
      <mechanicalReduction>1</mechanicalReduction>
    </actuator>
  </transmission>

  <!-- Left Arm -->
  <transmission name="left_tran1">
    <type>transmission_interface/SimpleTransmission</type>
    <joint name="left_s0">
      <hardwareInterface>EffortJointInterface</hardwareInterface>
    </joint>
    <actuator name="left_motor1">
      <hardwareInterface>EffortJointInterface</hardwareInterface>
      <mechanicalReduction>1</mechanicalReduction>
    </actuator>
  </transmission>
  <transmission name="left_tran2">
    <type>transmission_interface/SimpleTransmission</type>
    <joint name="left_s1">      
      <hardwareInterface>EffortJointInterface</hardwareInterface>
    </joint>
    <actuator name="left_motor2">
      <hardwareInterface>EffortJointInterface</hardwareInterface>
      <mechanicalReduction>1</mechanicalReduction>
    </actuator>
  </transmission>
  <transmission name="left_tran3">
    <type>transmission_interface/SimpleTransmission</type>
    <joint name="left_e0">
      <hardwareInterface>EffortJointInterface</hardwareInterface>
    </joint>
    <actuator name="left_motor3">
      <hardwareInterface>EffortJointInterface</hardwareInterface>
      <mechanicalReduction>1</mechanicalReduction>
    </actuator>
  </transmission>
  <transmission name="left_tran4">
    <type>transmission_interface/SimpleTransmission</type>
    <joint name="left_e1">
      <hardwareInterface>EffortJointInterface</hardwareInterface>
    </joint>
    <actuator name="left_motor4">
      <hardwareInterface>EffortJointInterface</hardwareInterface>
      <mechanicalReduction>1</mechanicalReduction>
    </actuator>
  </transmission>
  <transmission name="left_tran5">
    <type>transmission_interface/SimpleTransmission</type>
    <joint name="left_w0">
      <hardwareInterface>EffortJointInterface</hardwareInterface>
    </joint>
    <actuator name="left_motor5">
      <hardwareInterface>EffortJointInterface</hardwareInterface>
      <mechanicalReduction>1</mechanicalReduction>
    </actuator>
  </transmission>
  <transmission name="left_tran6">
    <type>transmission_interface/SimpleTransmission</type>
    <joint name="left_w1">
      <hardwareInterface>EffortJointInterface</hardwareInterface>
    </joint>
    <actuator name="left_motor6">
      <hardwareInterface>EffortJointInterface</hardwareInterface>
      <mechanicalReduction>1</mechanicalReduction>
    </actuator>
  </transmission>
  <transmission name="left_tran7">
    <type>transmission_interface/SimpleTransmission</type>
    <joint name="left_w2">
      <hardwareInterface>EffortJointInterface</hardwareInterface>
    </joint>
    <actuator name="left_motor7">
      <hardwareInterface>EffortJointInterface</hardwareInterface>
      <mechanicalReduction>1</mechanicalReduction>
    </actuator>
  </transmission>

  <!-- Head -->
  <transmission name="head1">
    <type>transmission_interface/SimpleTransmission</type>
    <joint name="head_pan">
      <hardwareInterface>EffortJointInterface</hardwareInterface>
    </joint>
    <actuator name="head_motor1">
      <hardwareInterface>EffortJointInterface</hardwareInterface>
      <mechanicalReduction>1</mechanicalReduction>
    </actuator>
  </transmission>

  <!-- ros_control plugin -->
  <gazebo>
    <plugin name="baxter_ros_control" filename="libbaxter_gazebo_ros_control.so">
      <robotNamespace>/robot</robotNamespace>
    </plugin>
  </gazebo>

  <!-- Gazebo-Specific Link Properties -->
  <gazebo reference="torso">
    <selfCollide>true</selfCollide>
  </gazebo>
  <gazebo reference="head_pan">
    <implicitSpringDamper>1</implicitSpringDamper>
  </gazebo>
  <gazebo reference="right_s0">
    <implicitSpringDamper>1</implicitSpringDamper>
  </gazebo>
  <gazebo reference="right_s1">
    <implicitSpringDamper>1</implicitSpringDamper>
  </gazebo>
  <gazebo reference="right_e0">
    <implicitSpringDamper>1</implicitSpringDamper>
  </gazebo>
  <gazebo reference="right_e1">
    <implicitSpringDamper>1</implicitSpringDamper>
  </gazebo>
  <gazebo reference="right_w0">
    <implicitSpringDamper>1</implicitSpringDamper>
  </gazebo>
  <gazebo reference="right_w1">
    <implicitSpringDamper>1</implicitSpringDamper>
  </gazebo>
  <gazebo reference="right_w2">
    <implicitSpringDamper>1</implicitSpringDamper>
  </gazebo>
  <gazebo reference="left_s0">
    <implicitSpringDamper>1</implicitSpringDamper>
  </gazebo>
  <gazebo reference="left_s1">
    <implicitSpringDamper>1</implicitSpringDamper>
  </gazebo>
  <gazebo reference="left_e0">
    <implicitSpringDamper>1</implicitSpringDamper>
  </gazebo>
  <gazebo reference="left_e1">
    <implicitSpringDamper>1</implicitSpringDamper>
  </gazebo>
  <gazebo reference="left_w0">
    <implicitSpringDamper>1</implicitSpringDamper>
  </gazebo>
  <gazebo reference="left_w1">
    <implicitSpringDamper>1</implicitSpringDamper>
  </gazebo>
  <gazebo reference="left_w2">
    <implicitSpringDamper>1</implicitSpringDamper>
  </gazebo>
  <gazebo reference="head_camera">
    <sensor name="head_camera" type="camera">
      <update_rate>30.0</update_rate>
      <camera name="head_camera">
        <pose>0.0 0.21 0.0 0.0 -0.8 -1.570796327 </pose>
        <horizontal_fov>1.3962634</horizontal_fov>
        <image>
          <width>800</width>
          <height>800</height>
          <format>R8G8B8</format>
        </image>
        <clip>
          <near>0.02</near>
          <far>300</far>
        </clip>
        <noise>
          <type>gaussian</type>
          <mean>0.0</mean>
          <stddev>0.007</stddev>
        </noise>
      </camera>
      <plugin filename="libgazebo_ros_camera.so" name="camera_controller">
        <alwaysOn>true</alwaysOn>
        <updateRate>0.0</updateRate>
        <cameraName>head_camera</cameraName>
        <imageTopicName>image</imageTopicName>
        <cameraInfoTopicName>camera_info</cameraInfoTopicName>
        <frameName>head_camera</frameName>
        <hackBaseline>0.07</hackBaseline>
        <distortionK1>0.0</distortionK1>
        <distortionK2>0.0</distortionK2>
        <distortionK3>0.0</distortionK3>
        <distortionT1>0.0</distortionT1>
        <distortionT2>0.0</distortionT2>
        <robotNamespace>/cameras</robotNamespace>
      </plugin>
    </sensor>
  </gazebo>
  <gazebo reference="right_hand_camera">
    <sensor name="right_hand_camera" type="camera">
      <update_rate>30.0</update_rate>
      <camera name="right_hand_camera">
        <pose>0.0 0.0 0.0 0.0 -1.570796327 1.570796327 </pose>
        <horizontal_fov>1.3962634</horizontal_fov>
        <image>
          <width>800</width>
          <height>800</height>
          <format>R8G8B8</format>
        </image>
        <clip>
          <near>0.02</near>
          <far>300</far>
        </clip>
        <noise>
          <type>gaussian</type>
          <mean>0.0</mean>
          <stddev>0.007</stddev>
        </noise>
      </camera>
      <plugin filename="libgazebo_ros_camera.so" name="camera_controller">
        <alwaysOn>true</alwaysOn>
        <updateRate>0.0</updateRate>
        <cameraName>right_hand_camera</cameraName>
        <imageTopicName>image</imageTopicName>
        <cameraInfoTopicName>camera_info</cameraInfoTopicName>
        <frameName>right_hand_camera</frameName>
        <hackBaseline>0.07</hackBaseline>
        <distortionK1>0.0</distortionK1>
        <distortionK2>0.0</distortionK2>
        <distortionK3>0.0</distortionK3>
        <distortionT1>0.0</distortionT1>
        <distortionT2>0.0</distortionT2>
        <robotNamespace>/cameras</robotNamespace>
      </plugin>
    </sensor>
  </gazebo>
  <gazebo reference="left_hand_camera">
    <sensor name="left_hand_camera" type="camera">
      <update_rate>30.0</update_rate>
      <camera name="left_hand_camera">
        <pose>0.0 0.0 0.0 0.0 -1.570796327 1.570796327 </pose>
        <horizontal_fov>1.3962634</horizontal_fov>
        <image>
          <width>800</width>
          <height>800</height>
          <format>R8G8B8</format>
        </image>
        <clip>
          <near>0.02</near>
          <far>300</far>
        </clip>
        <noise>
          <type>gaussian</type>
          <mean>0.0</mean>
          <stddev>0.007</stddev>
        </noise>
      </camera>
      <plugin filename="libgazebo_ros_camera.so" name="camera_controller">
        <alwaysOn>true</alwaysOn>
        <updateRate>0.0</updateRate>
        <cameraName>left_hand_camera</cameraName>
        <imageTopicName>image</imageTopicName>
        <cameraInfoTopicName>camera_info</cameraInfoTopicName>
        <frameName>left_hand_camera</frameName>
        <hackBaseline>0.07</hackBaseline>
        <distortionK1>0.0</distortionK1>
        <distortionK2>0.0</distortionK2>
        <distortionK3>0.0</distortionK3>
        <distortionT1>0.0</distortionT1>
        <distortionT2>0.0</distortionT2>
        <robotNamespace>/cameras</robotNamespace>
      </plugin>
    </sensor>
  </gazebo>
  <gazebo reference="display">
    <visual>
      <plugin name="screen_video_controller" filename="libgazebo_ros_video.so">
        <height>600</height>
        <width>1024</width>
        <topicName>/robot/xdisplay</topicName>
      </plugin>
    </visual>
  </gazebo>
  <gazebo reference="sonar_ring">
    <sensor name="sonar" type="ray">
      <pose>0.0 0.0 0.0 0.0 0.0 0.0</pose>
      <ray>
        <scan>
          <horizontal>
            <samples>12</samples>
            <resolution>1.0</resolution>
            <min_angle>-3.14</min_angle>
            <max_angle>3.14</max_angle>
          </horizontal>
          <vertical>
            <samples>2</samples>
            <resolution>1.0</resolution>
            <min_angle>-0.001</min_angle>
            <max_angle>0</max_angle>
          </vertical>
        </scan>
        <range>
          <min>0.05</min>
          <max>50.0</max>
        </range>
      </ray>
      <plugin name="sonar_plugin" filename="libgazebo_ros_block_laser.so">
        <gaussianNoise>0.00</gaussianNoise>
        <alwaysOn>true</alwaysOn>
        <updateRate>100.0</updateRate>
        <topicName>/robot/sonar/head_sonar/state</topicName>
        <frameName>sonar_ring</frameName>
      </plugin>
      <always_on>true</always_on>
      <update_rate>100.0</update_rate>
    </sensor>
  </gazebo>
  <gazebo reference="right_hand_range">
    <sensor name="ir_right" type="ray">
      <pose>0.0 0.0 0.0 0.0 0.0 0.0</pose>
      <ray>
        <scan>
          <horizontal>
            <samples>1</samples>
            <resolution>1.0</resolution>
            <min_angle>-0.5</min_angle>
            <max_angle>0.5</max_angle>
          </horizontal>
        </scan>
        <range>
          <min>0.004</min>
          <max>0.4</max>
        </range>
      </ray>
      <plugin name="plugin_3" filename="libgazebo_ros_laser.so">
        <gaussianNoise>0.005</gaussianNoise>
        <alwaysOn>true</alwaysOn>
        <updateRate>100</updateRate>
        <topicName>/sim/laserscan/right_hand_range/state</topicName>
        <frameName>right_hand_range</frameName>
      </plugin>
      <always_on>true</always_on>
      <update_rate>100.0</update_rate>
    </sensor>
  </gazebo>
  <gazebo reference="left_hand_range">
    <sensor name="ir_left" type="ray">
      <pose>0.0 0.0 0.0 0.0 0.0 0.0</pose>
      <ray>
        <scan>
          <horizontal>
            <samples>1</samples>
            <resolution>1.0</resolution>
            <min_angle>-0.5</min_angle>
            <max_angle>0.5</max_angle>
          </horizontal>
        </scan>
        <range>
          <min>0.004</min>
          <max>0.4</max>
        </range>
      </ray>
      <plugin name="plugin_4" filename="libgazebo_ros_laser.so">
        <gaussianNoise>0.005</gaussianNoise>
        <alwaysOn>true</alwaysOn>
        <updateRate>100</updateRate>
        <topicName>/sim/laserscan/left_hand_range/state</topicName>
        <frameName>left_hand_range</frameName>
      </plugin>
      <always_on>true</always_on>
      <update_rate>100.0</update_rate>
    </sensor>
  </gazebo>
</robot>
